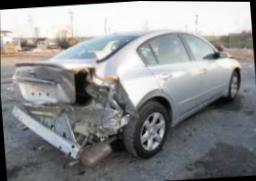Bumper: (10, 99, 129, 158)
Dickey: (13, 58, 103, 101)
Light: (84, 74, 118, 102)
